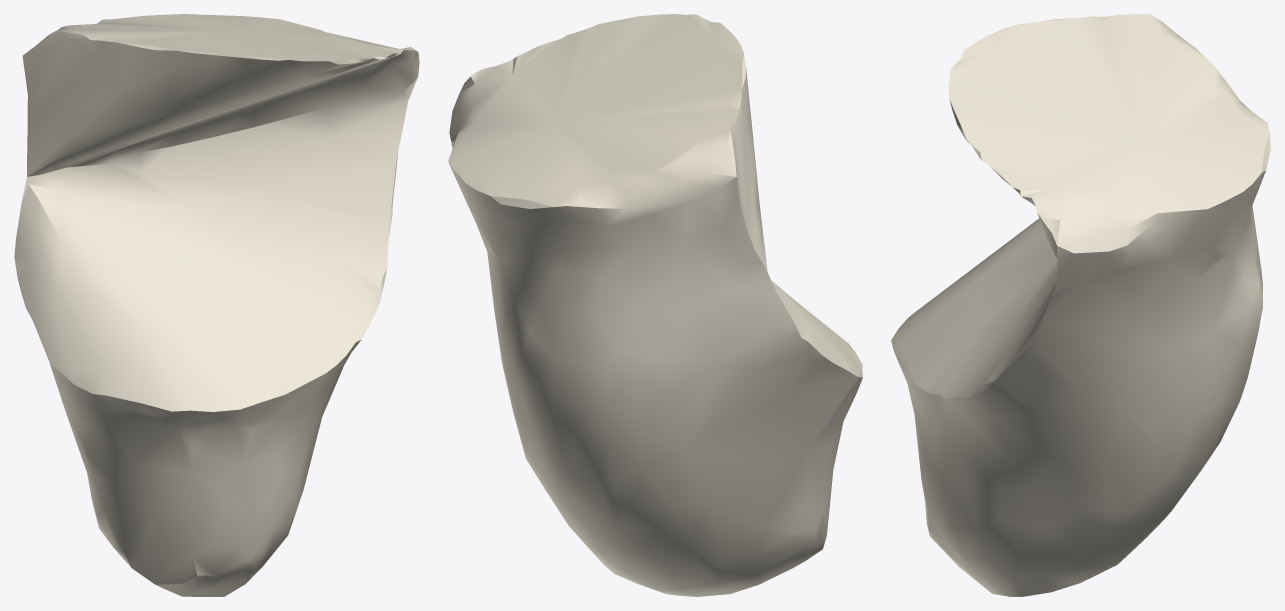
The model's file is fma23653_mm1896.glb.
3 views of the same model, side by side, from view 1: azimuth 30°, elevation 25°; view 2: azimuth 150°, elevation 25°; view 3: azimuth 270°, elevation 25° (orthographic).
Parts seen in each view (by area): view 1: FMA23653_MM1896; view 2: FMA23653_MM1896; view 3: FMA23653_MM1896.
Part boxes in pixels (<box>): FMA23653_MM1896: <box>14,14,419,596</box>; FMA23653_MM1896: <box>448,14,862,596</box>; FMA23653_MM1896: <box>891,14,1270,596</box>.
Size of the model in its own units: 0.00841 by 0.0114 by 0.00718.
